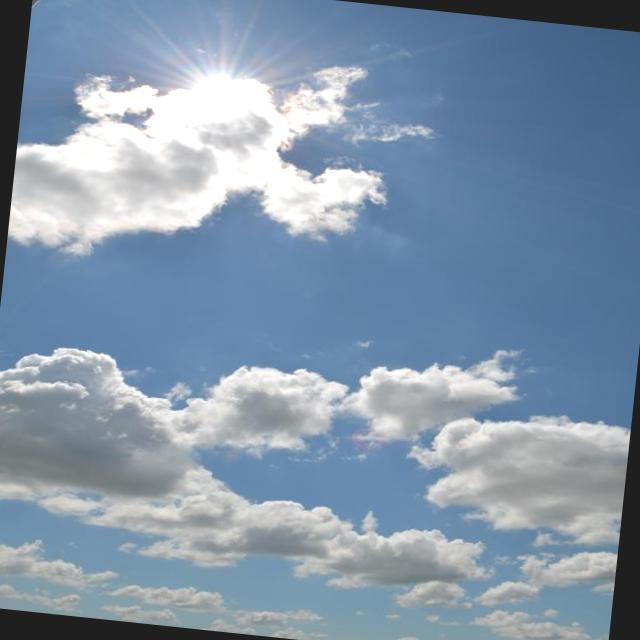cumulus: (9, 35, 385, 260), (334, 356, 635, 624), (0, 338, 204, 532)
